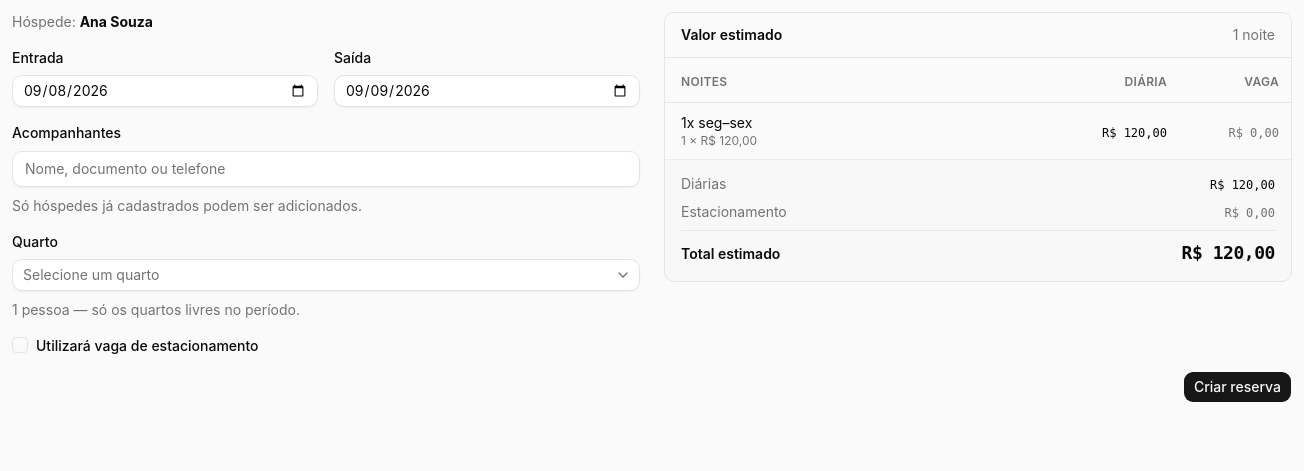
Test: ReservationForm · escolha do quarto › nao cria a reserva se a busca de acompanhante nao corresponde a um hospede
Type "zzz" into the dropdown labelled "Acompanhantes".
click(326, 168); type("zzz")  # box [12, 150, 640, 186]
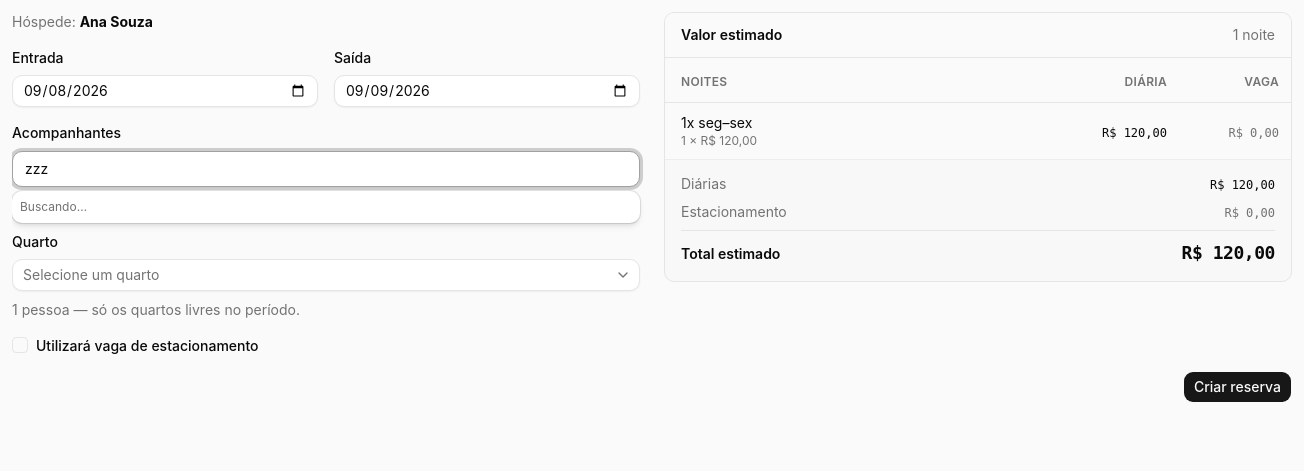
Click the button "Criar reserva".
click(1237, 387)  # box [1183, 371, 1292, 403]
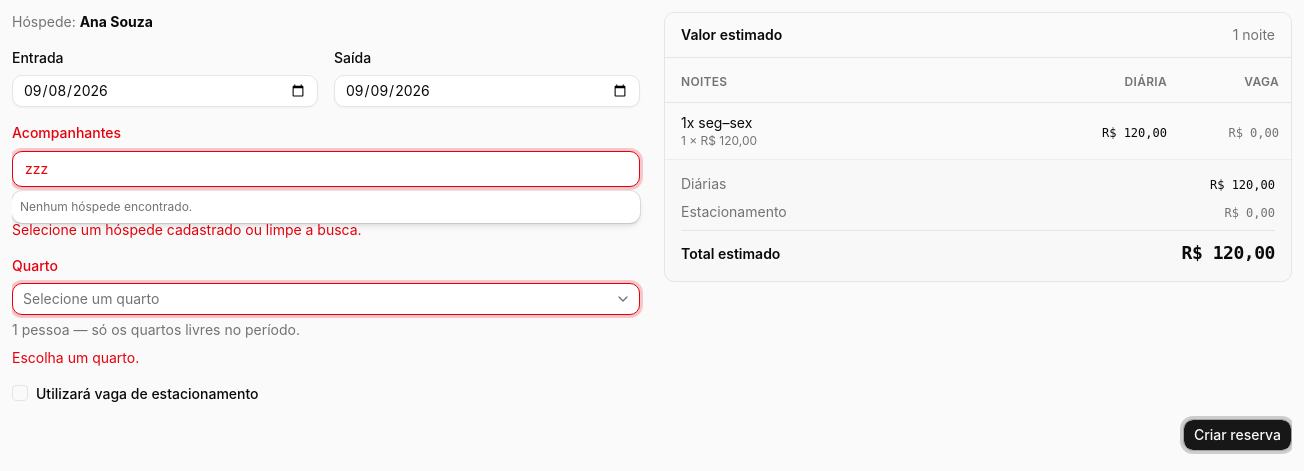
Expected: the text "Selecione um hóspede cadastrado ou limpe a busca." is shown, [12, 220, 362, 238]
